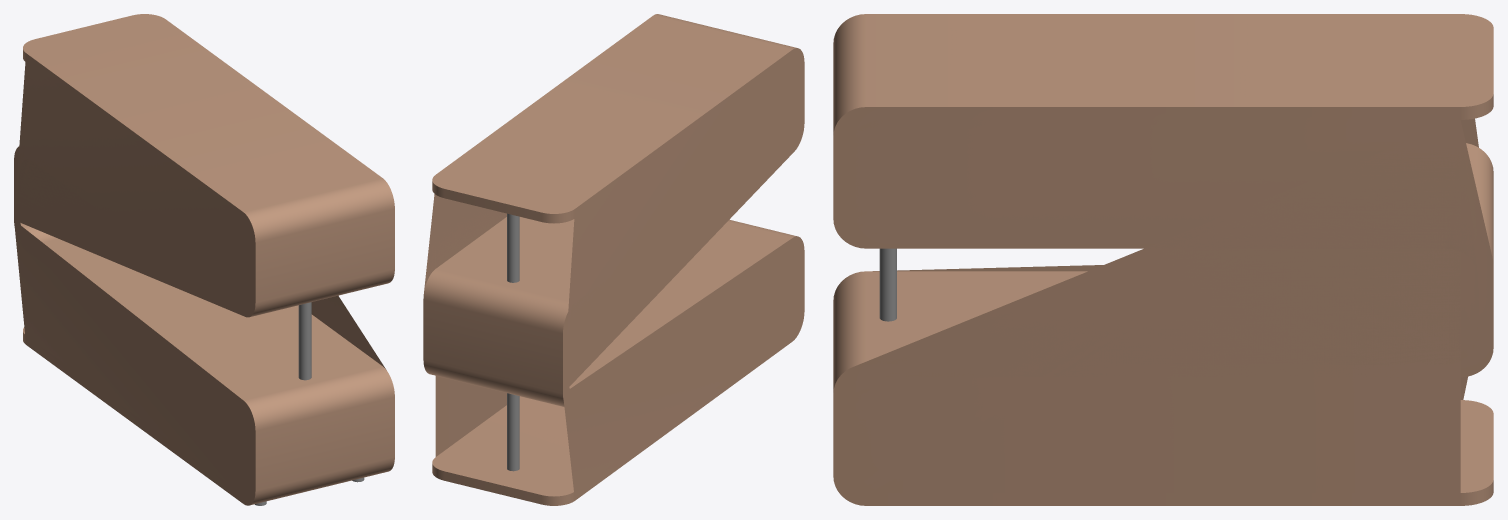
The model's file is tana.fbx.
3 renders of one model, left to right at view 1: azimuth 30°, elevation 25°; view 2: azimuth 150°, elevation 25°; view 3: azimuth 270°, elevation 25°, orthographic. The views are drawn at different scales.
Parts seen in each view (by area): view 1: tana; view 2: tana; view 3: tana.
Boxes of the visible parts, x1,y1,x2,y2 form: tana: [14, 14, 394, 505]; tana: [423, 14, 804, 505]; tana: [833, 14, 1493, 505].
Size of the model in its own units: 1 by 2.05 by 3.
